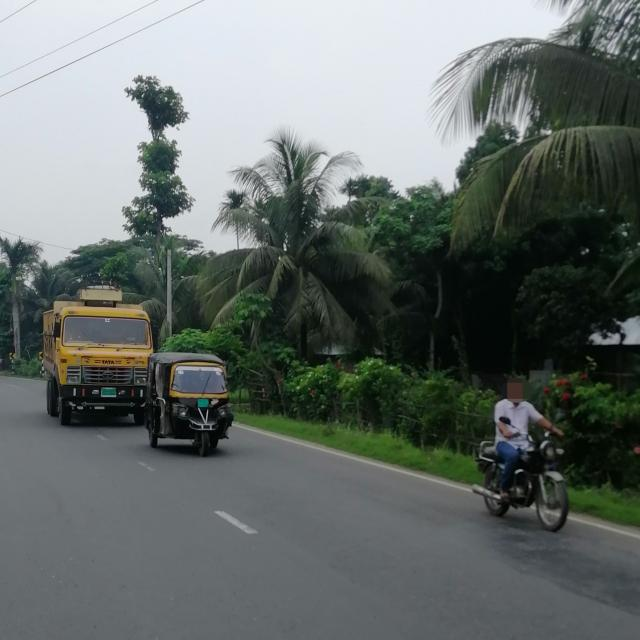Motorbike: (474, 417, 582, 535)
Truck: (42, 269, 158, 430)
